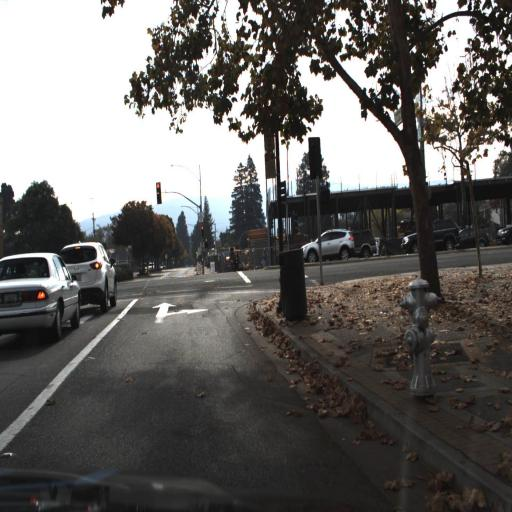car: (0, 246, 75, 339), (60, 236, 118, 316), (64, 240, 122, 310), (398, 216, 462, 255), (403, 219, 460, 255), (302, 229, 356, 260), (352, 231, 381, 255)
trafficLight-Red: (155, 183, 161, 203), (199, 223, 205, 237)
